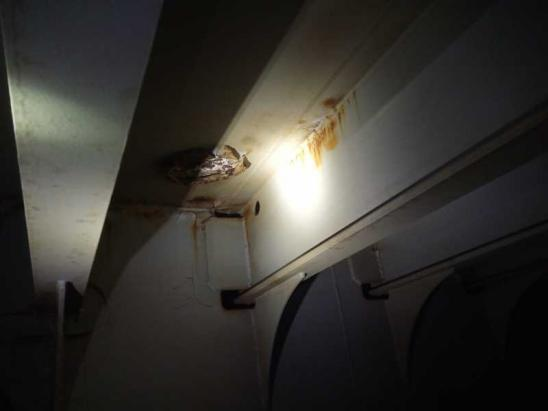corrosion: (293, 86, 360, 162), (158, 144, 254, 183), (178, 215, 224, 289), (185, 199, 264, 221)
